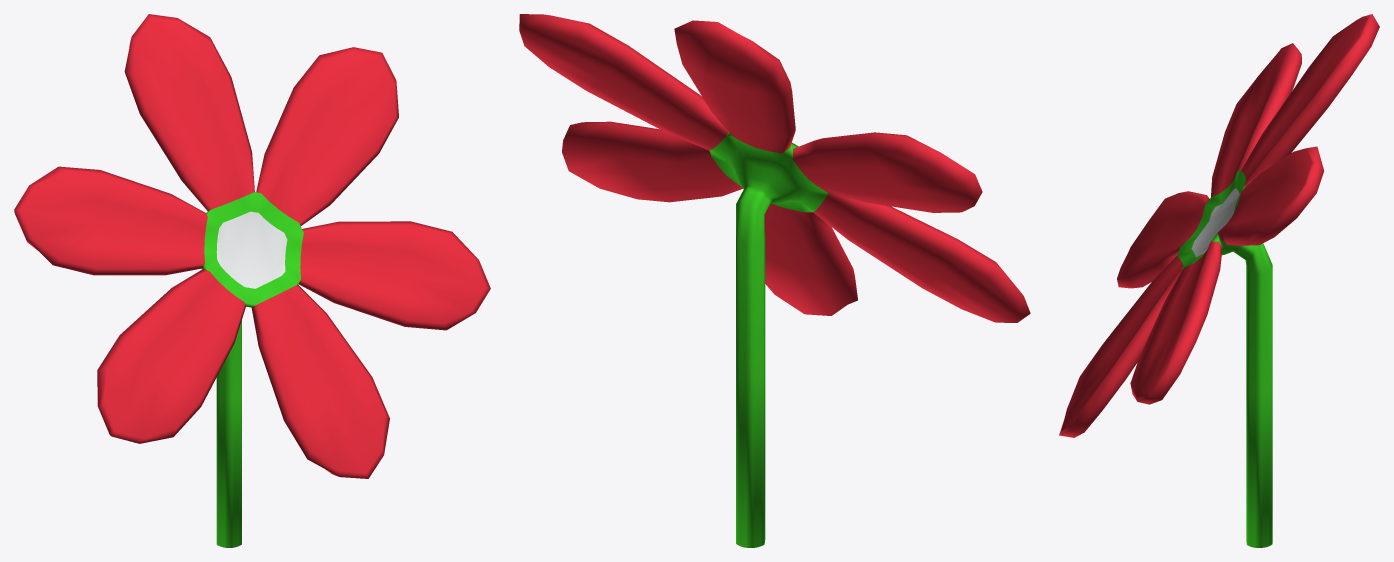
Rendered from flower.fbx.
3 views of the same model, side by side, from view 1: azimuth 30°, elevation 25°; view 2: azimuth 150°, elevation 25°; view 3: azimuth 270°, elevation 25° (orthographic). The views are drawn at different scales.
Visible parts, largest first — view 1: Flower; view 2: Flower; view 3: Flower.
Part boxes in pixels (<box>): Flower: <box>14,14,490,547</box>; Flower: <box>519,14,1030,547</box>; Flower: <box>1059,14,1379,547</box>.
Size of the model in its own units: 7.96 by 9.12 by 5.15.
